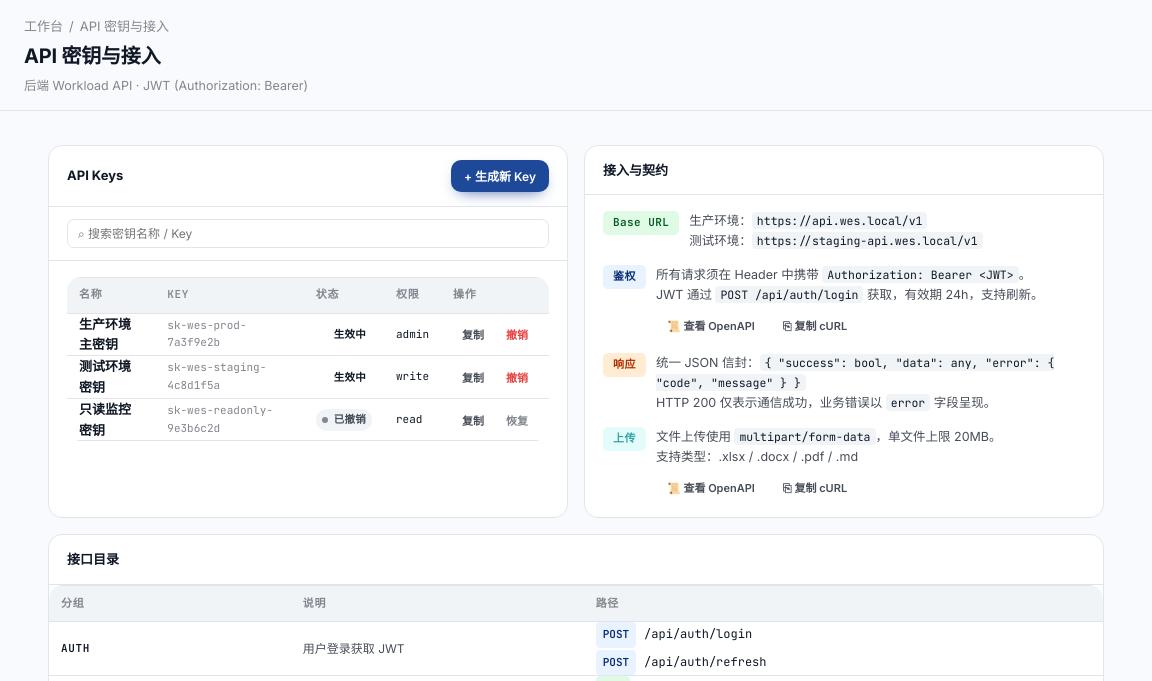
Scenario: ApiKeys · 撤销危险确认 › 取消撤销弹窗后密钥状态不变
Step 1. Click the button "撤销" in the row of "生产环境主密钥" → [517, 334], box [497,321,537,347]
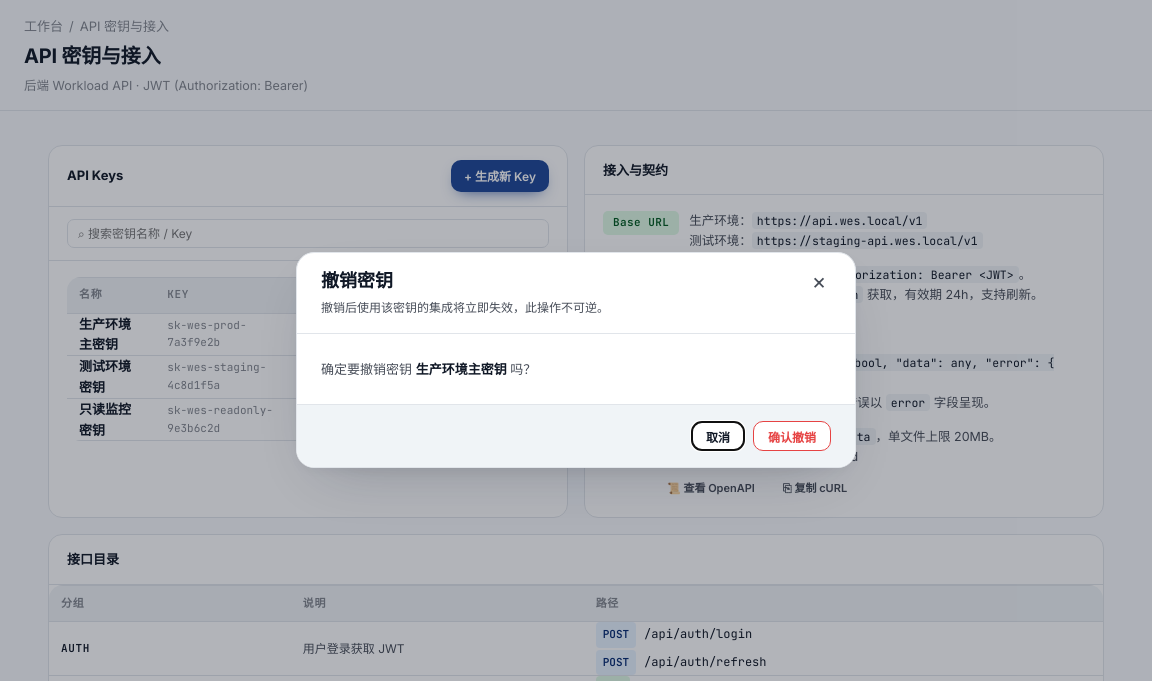
Step 2. Click the button "取消" → [718, 436], box [691,421,745,451]
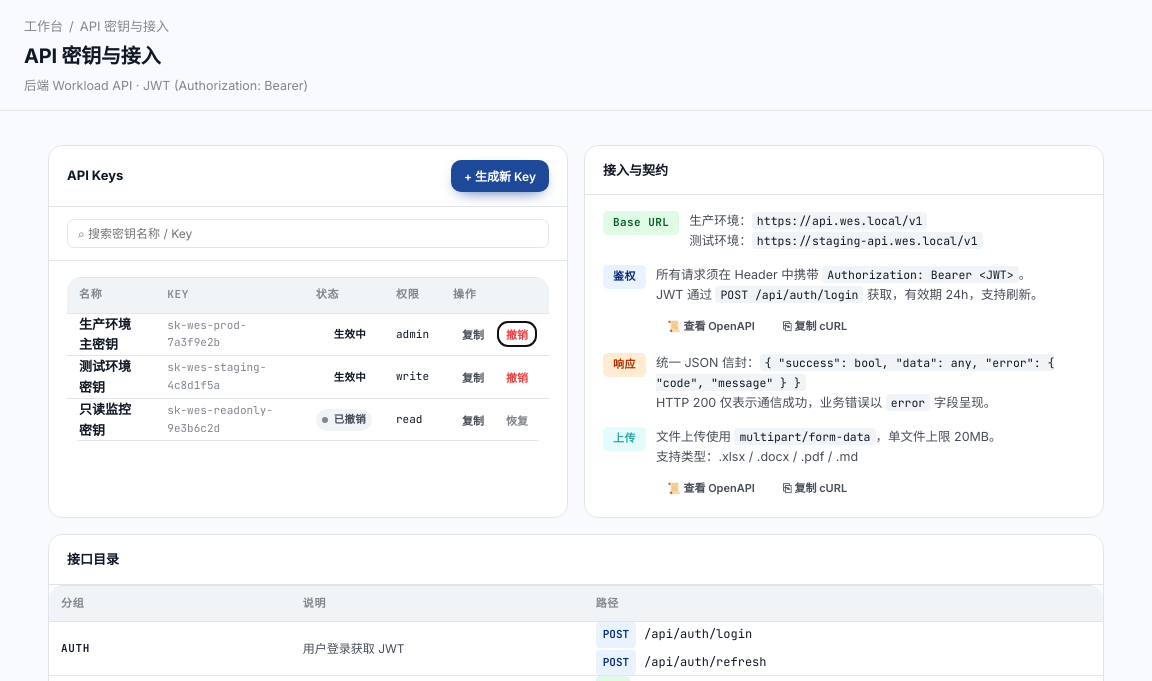
Expected: the dialog is gone
